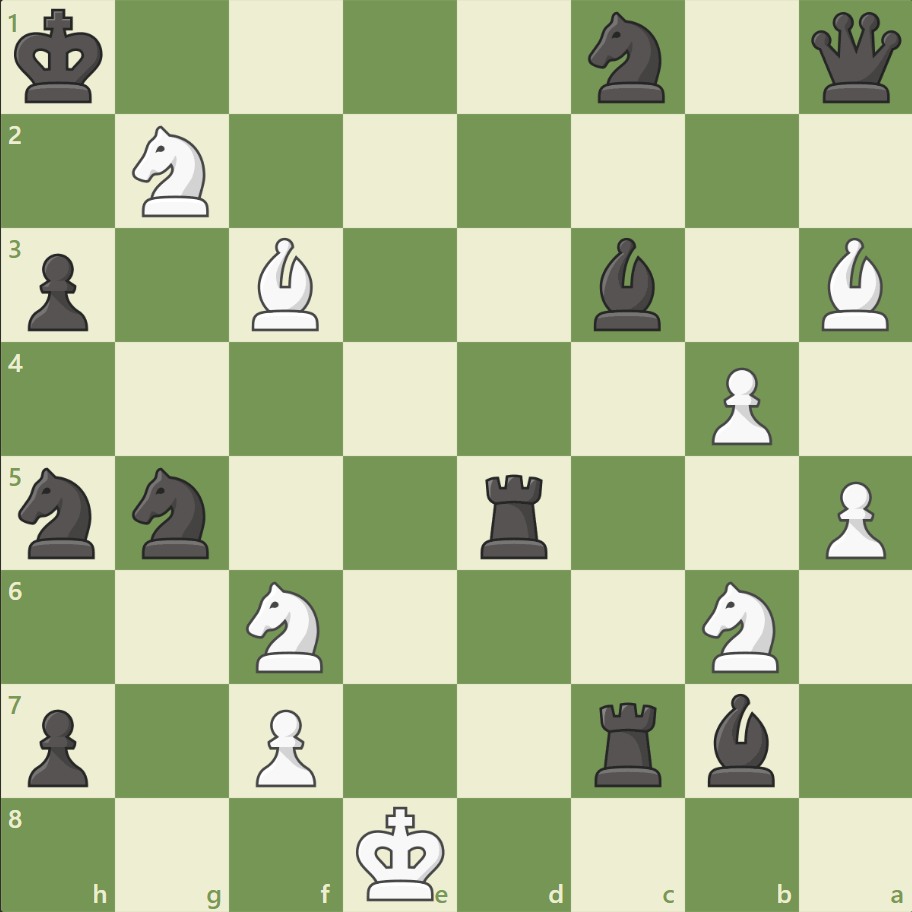B: (812, 233, 896, 336), (244, 233, 328, 336)
K: (351, 798, 451, 906)
N: (124, 121, 222, 223), (692, 575, 789, 677), (238, 575, 335, 677)
P: (247, 700, 322, 791), (701, 359, 776, 450), (815, 473, 889, 564)
b: (698, 687, 782, 790), (585, 233, 669, 336)
k: (11, 4, 111, 112)
n: (124, 461, 222, 564), (11, 461, 108, 564), (579, 7, 676, 110)
p: (20, 700, 95, 791), (20, 246, 95, 337)
q: (805, 9, 904, 108)
r: (587, 693, 670, 790), (473, 466, 556, 563)
